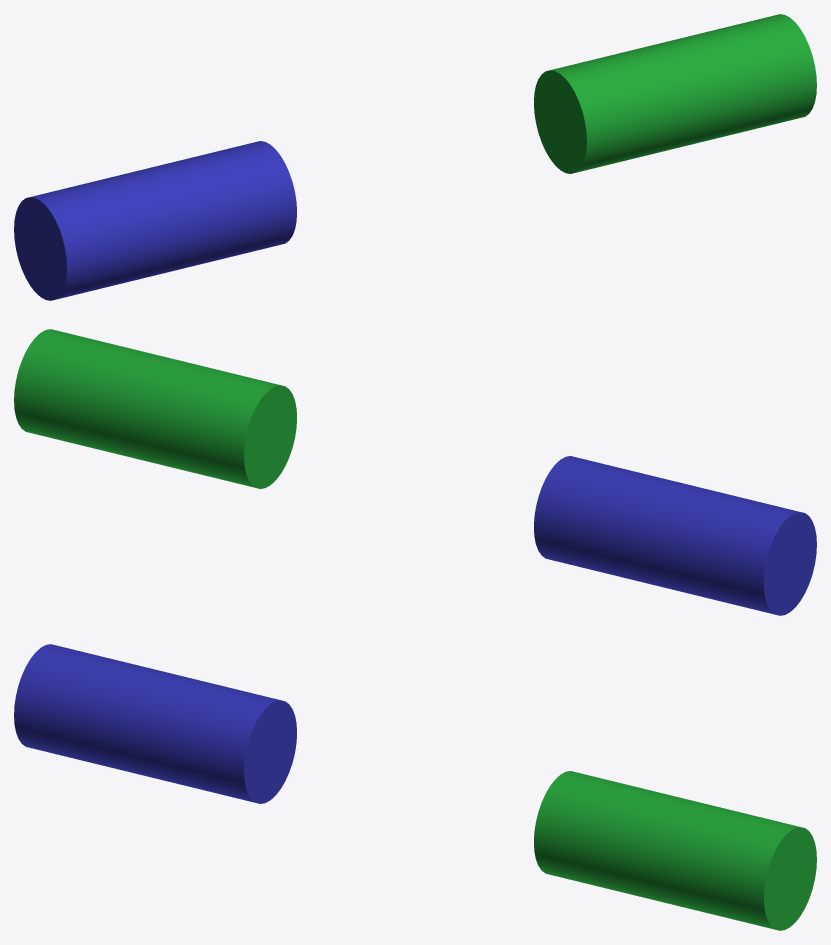
Rendered from Hose.obj.
3 views of the same model, one above another, from view 1: azimuth 30°, elevation 25°; view 2: azimuth 150°, elevation 25°; view 3: azimuth 330°, elevation 25° (orthographic).
Parts seen in each view (by area): view 1: Output, Input; view 2: Output, Input; view 3: Output, Input.
Boxes of the visible parts, x1,y1,x2,y2 form: Output: [14, 141, 296, 300]; Input: [534, 14, 816, 173]; Output: [534, 456, 816, 615]; Input: [14, 329, 296, 488]; Output: [14, 644, 296, 803]; Input: [534, 771, 816, 930].
Size of the model in its own units: 1.63 by 0.2 by 0.2.
